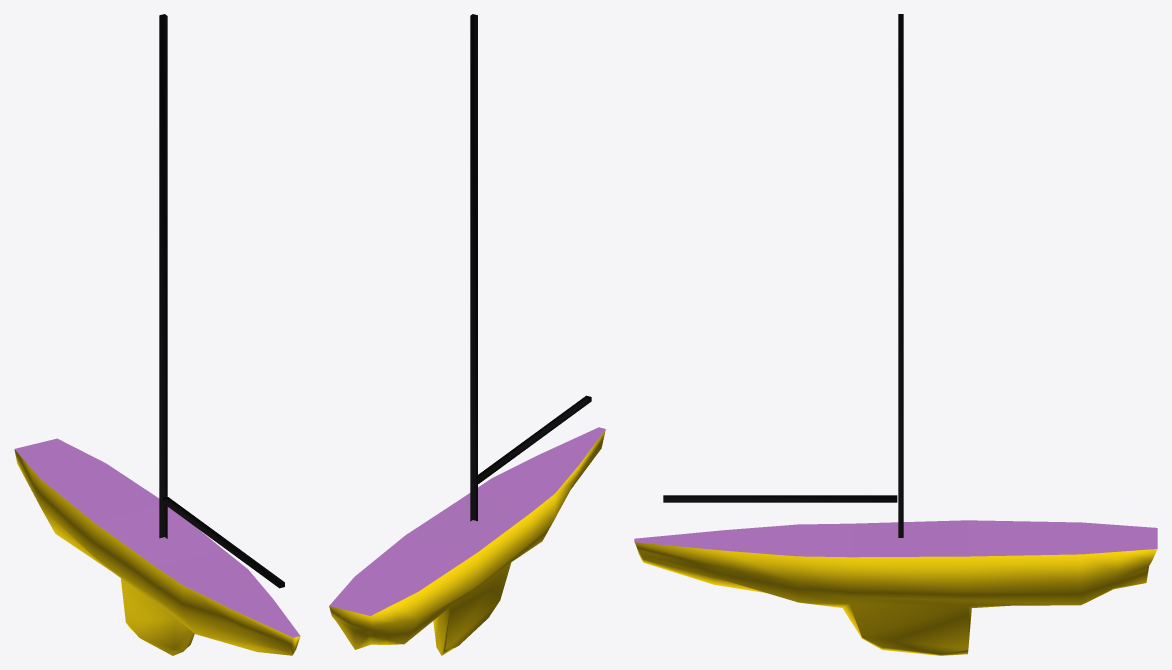
File: hull.obj
3 views of the same model, side by side, from view 1: azimuth 30°, elevation 25°; view 2: azimuth 150°, elevation 25°; view 3: azimuth 270°, elevation 25° (orthographic). The views are drawn at different scales.
Bounding box in the file's own units: 2.27 × 18.71 × 13.85.
